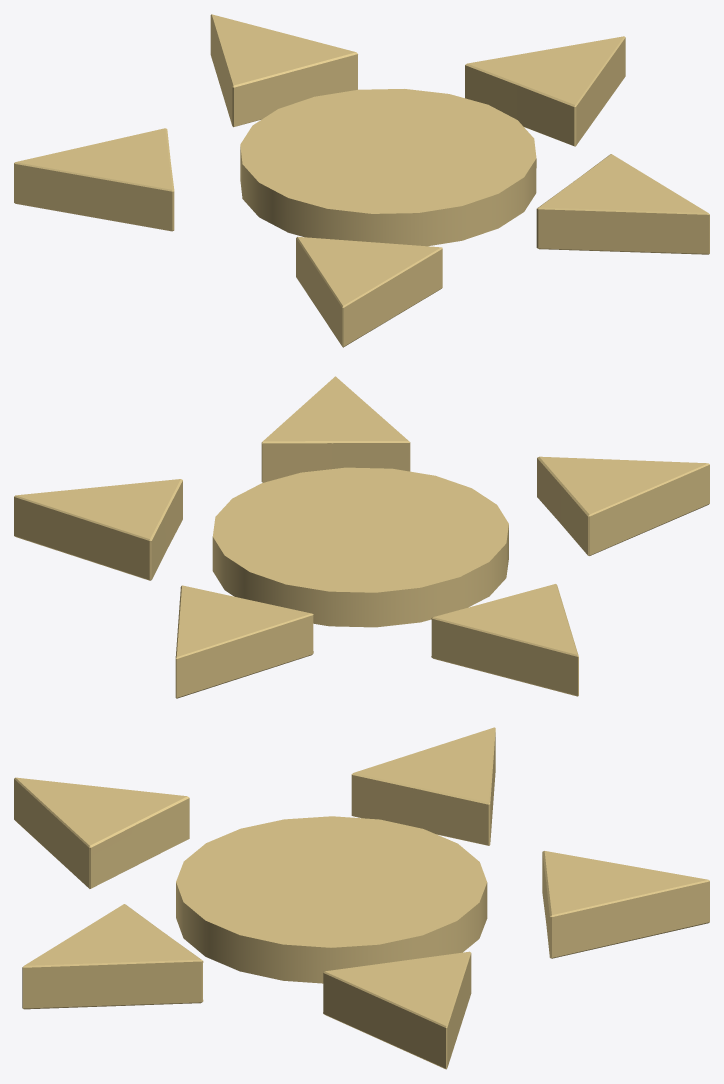
The model's file is Figuras_Base.fbx.
3 views of the same model, one above another, from view 1: azimuth 30°, elevation 25°; view 2: azimuth 150°, elevation 25°; view 3: azimuth 270°, elevation 25° (orthographic). The views are drawn at different scales.
Parts seen in each view (by area): view 1: pCylinder5, polySurface46, polySurface48, polySurface31, polySurface49, polySurface47; view 2: pCylinder5, polySurface49, polySurface31, polySurface48, polySurface47, polySurface46; view 3: pCylinder5, polySurface46, polySurface49, polySurface47, polySurface31, polySurface48.
Part boxes in pixels (box(x1,y1,x2,y2)): pCylinder5: box(240, 89, 536, 246); polySurface46: box(536, 154, 709, 254); polySurface48: box(14, 128, 174, 231); polySurface31: box(465, 36, 625, 146); polySurface49: box(296, 236, 442, 347); polySurface47: box(210, 14, 357, 127); pCylinder5: box(212, 467, 508, 627); polySurface49: box(537, 456, 709, 555); polySurface31: box(14, 479, 182, 580); polySurface48: box(431, 584, 578, 696); polySurface47: box(175, 585, 313, 698); polySurface46: box(261, 376, 410, 482); pCylinder5: box(176, 816, 487, 983); polySurface46: box(22, 904, 203, 1009); polySurface49: box(14, 777, 189, 888); polySurface47: box(542, 851, 709, 958); polySurface31: box(323, 951, 471, 1069); polySurface48: box(351, 727, 495, 845).
Bounding box in the file's own units: 13.3 × 0.9026 × 13.04.
